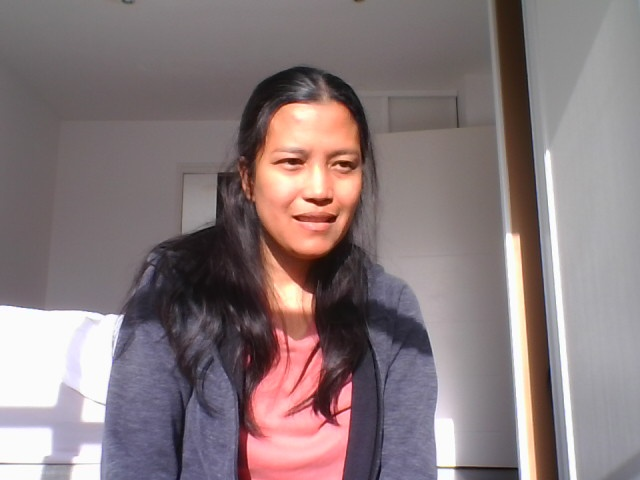face: (237, 66, 364, 258)
